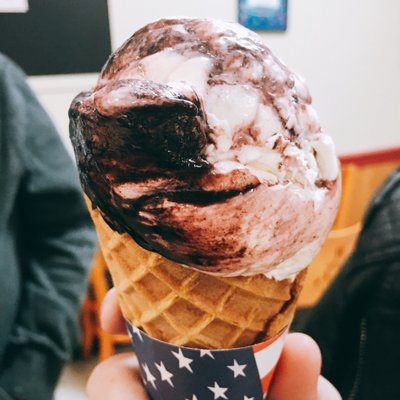pizza: (0, 38, 99, 398)
